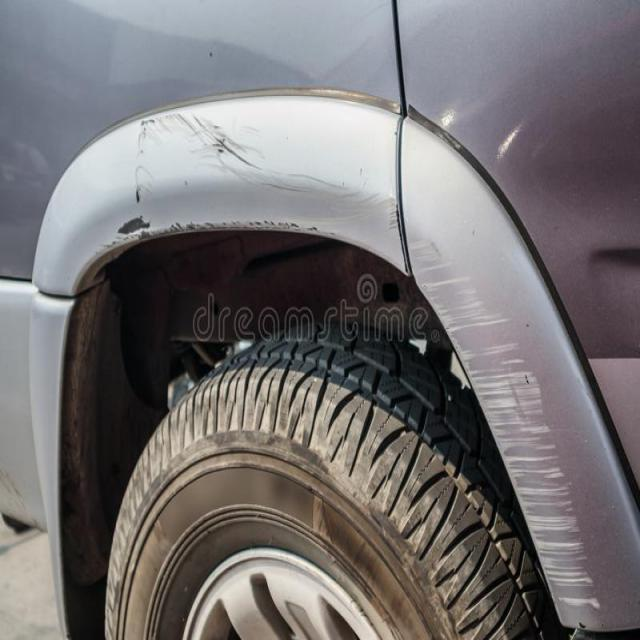scratch: (440, 222, 631, 616), (96, 106, 396, 237)
